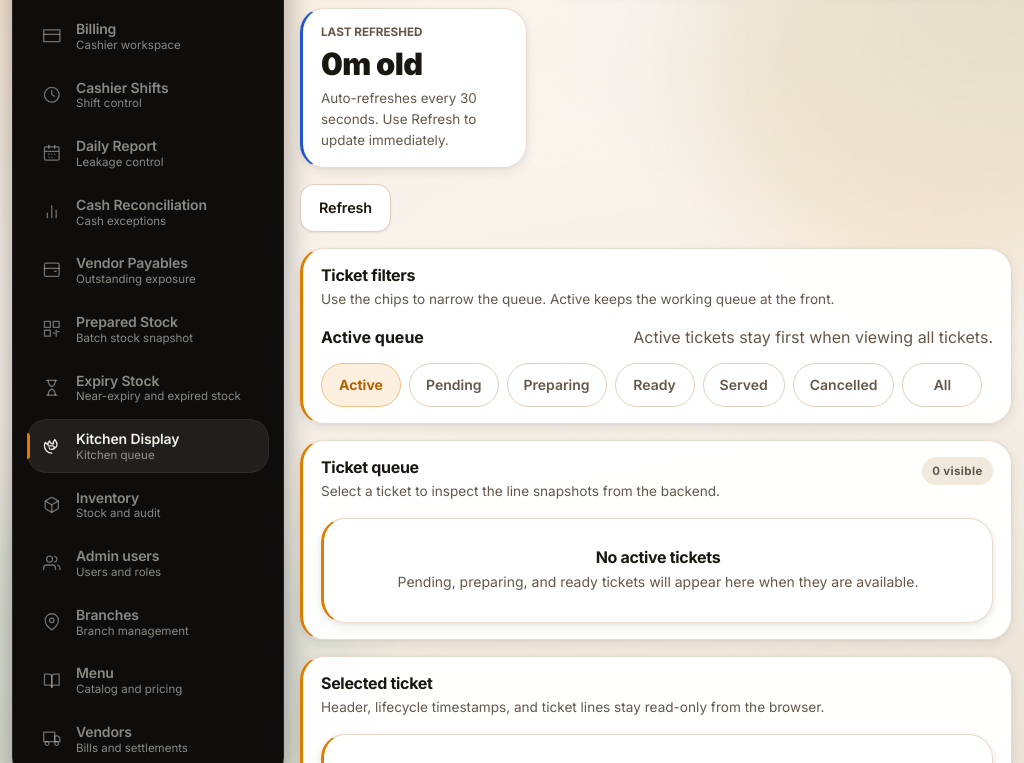
Test case: KitchenTicketsPage › shows "do not prepare" banner in cancelled ticket card
(page scrolled)
What coordinates should you click on to do the following:
click the button "All"
I would click on:
 (942, 385)
Its box is [902,363,982,407].
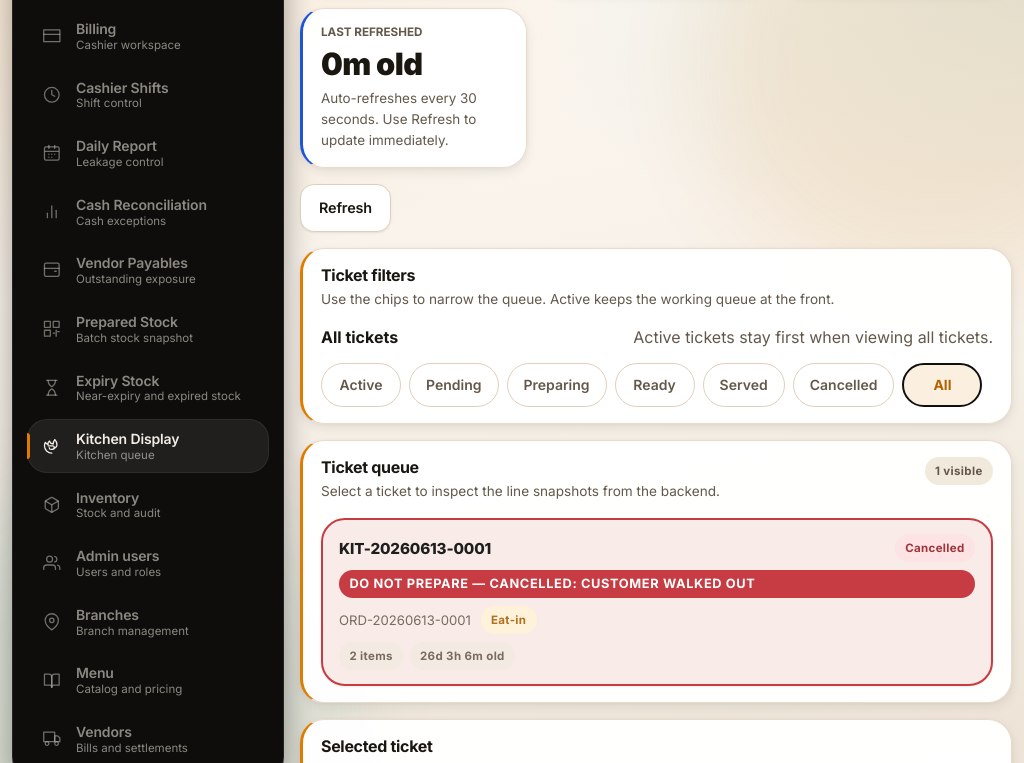
Check: the text "KIT-20260613-0001" is shown, box [339,539,491,558]
Check: the text "Do not prepare — cancelled: Customer walked out" is shown, box [339,570,975,598]
